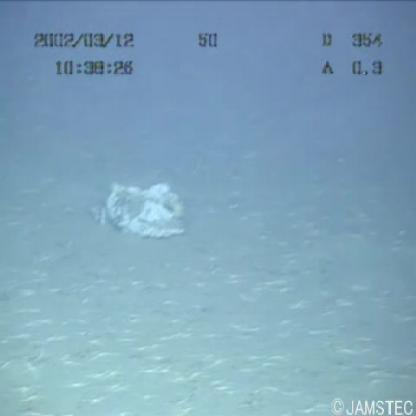Rác: (71, 169, 196, 250)
